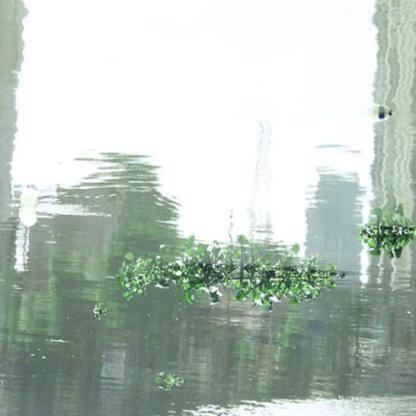Plastic: (18, 202, 40, 229), (370, 107, 396, 127)
